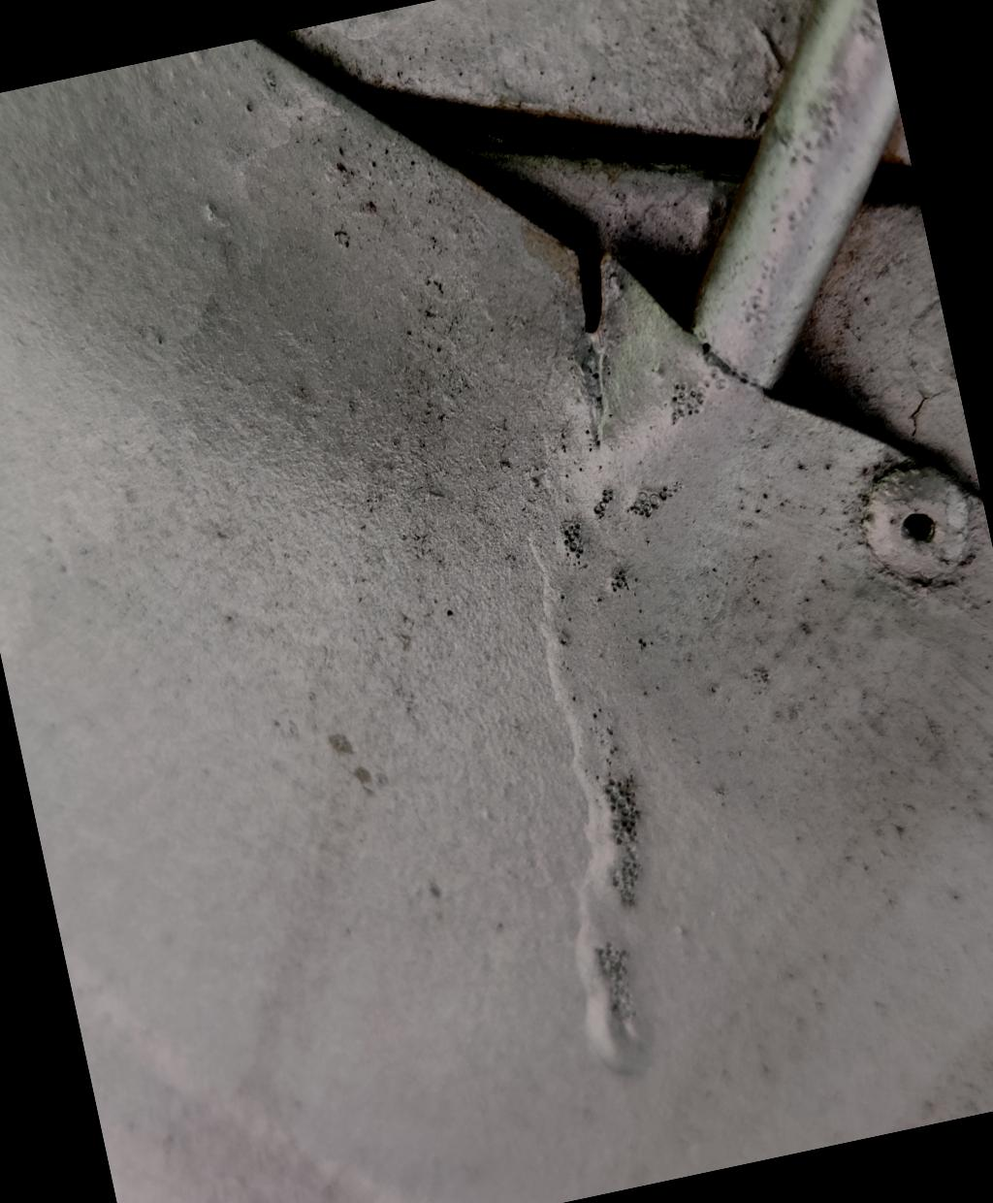crack: (523, 204, 657, 375)
